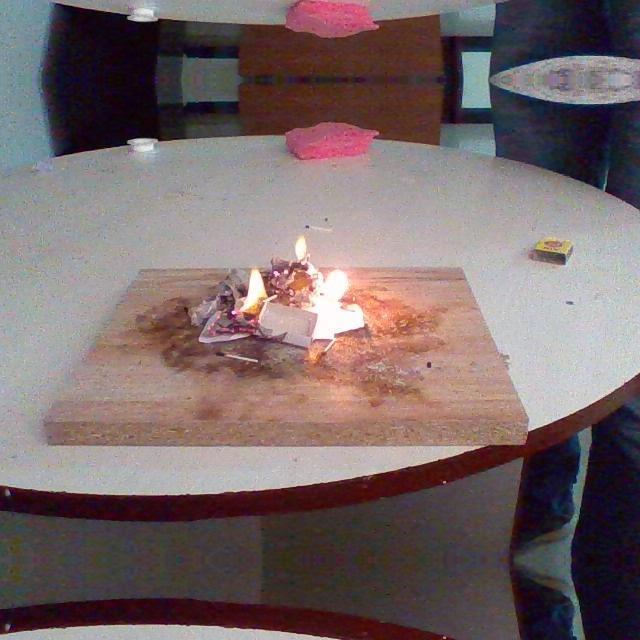smoke: (240, 264, 270, 314), (320, 266, 350, 308)
